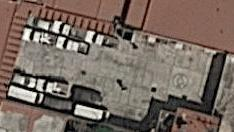parkingspot: (103, 62, 110, 73)
